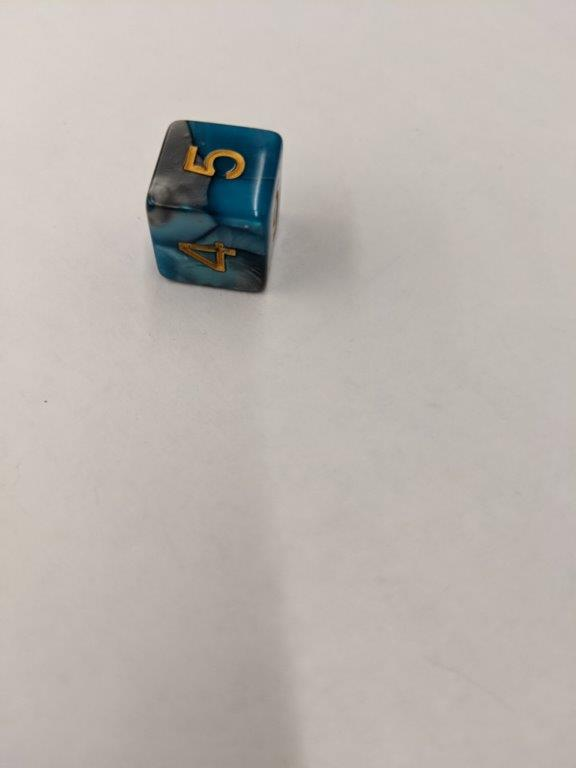d6-5: (147, 117, 284, 298)
